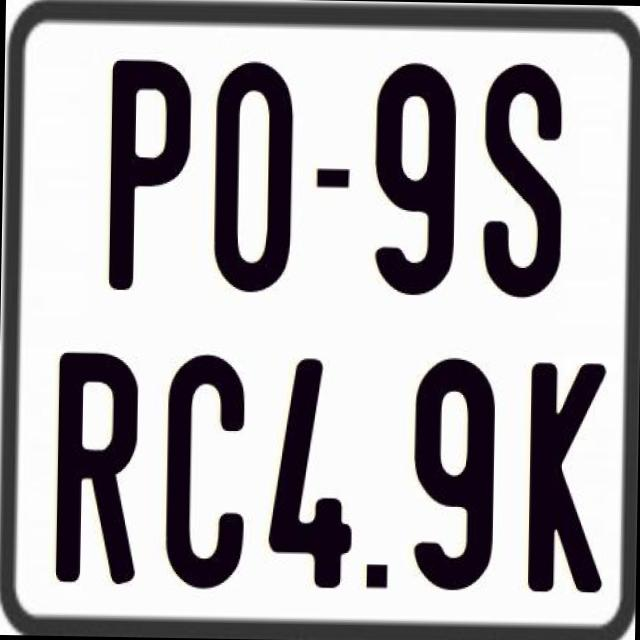0: (208, 60, 290, 298)
4: (264, 353, 352, 586)
9: (372, 58, 463, 300), (408, 358, 498, 594)
C: (165, 352, 253, 588)
K: (528, 362, 612, 597)
P: (104, 57, 192, 295)
R: (53, 347, 137, 579)
S: (480, 58, 568, 294)
